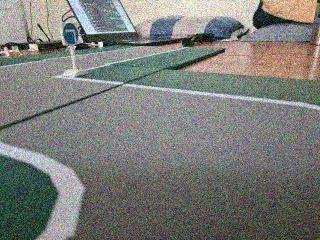left: (59, 20, 83, 47)
